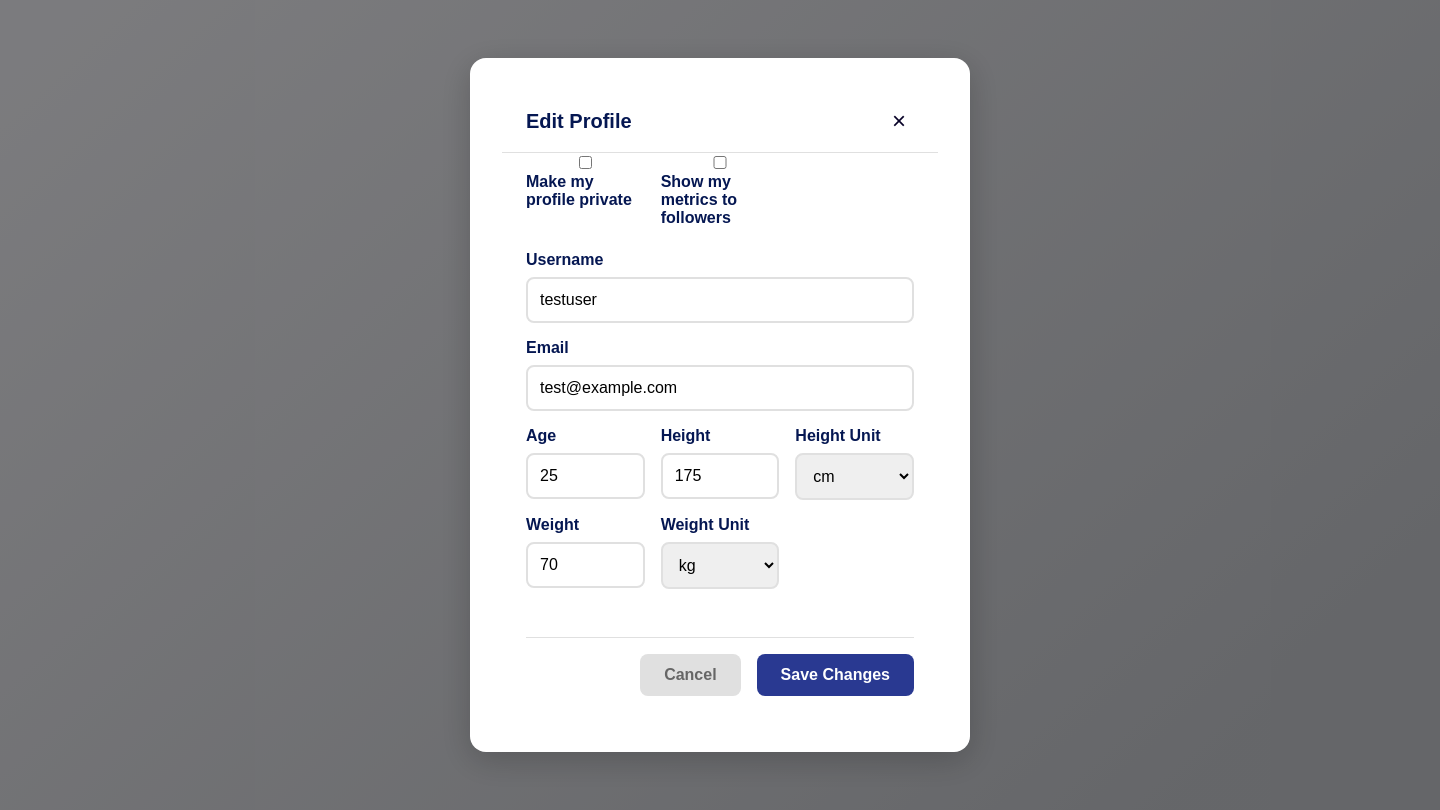
Test: EditProfile › displays error message on failed update
The width and height of the screenshot is (1440, 810).
(page scrolled)
Click the button "Save Changes".
click(835, 675)  # box [757,654,914,696]
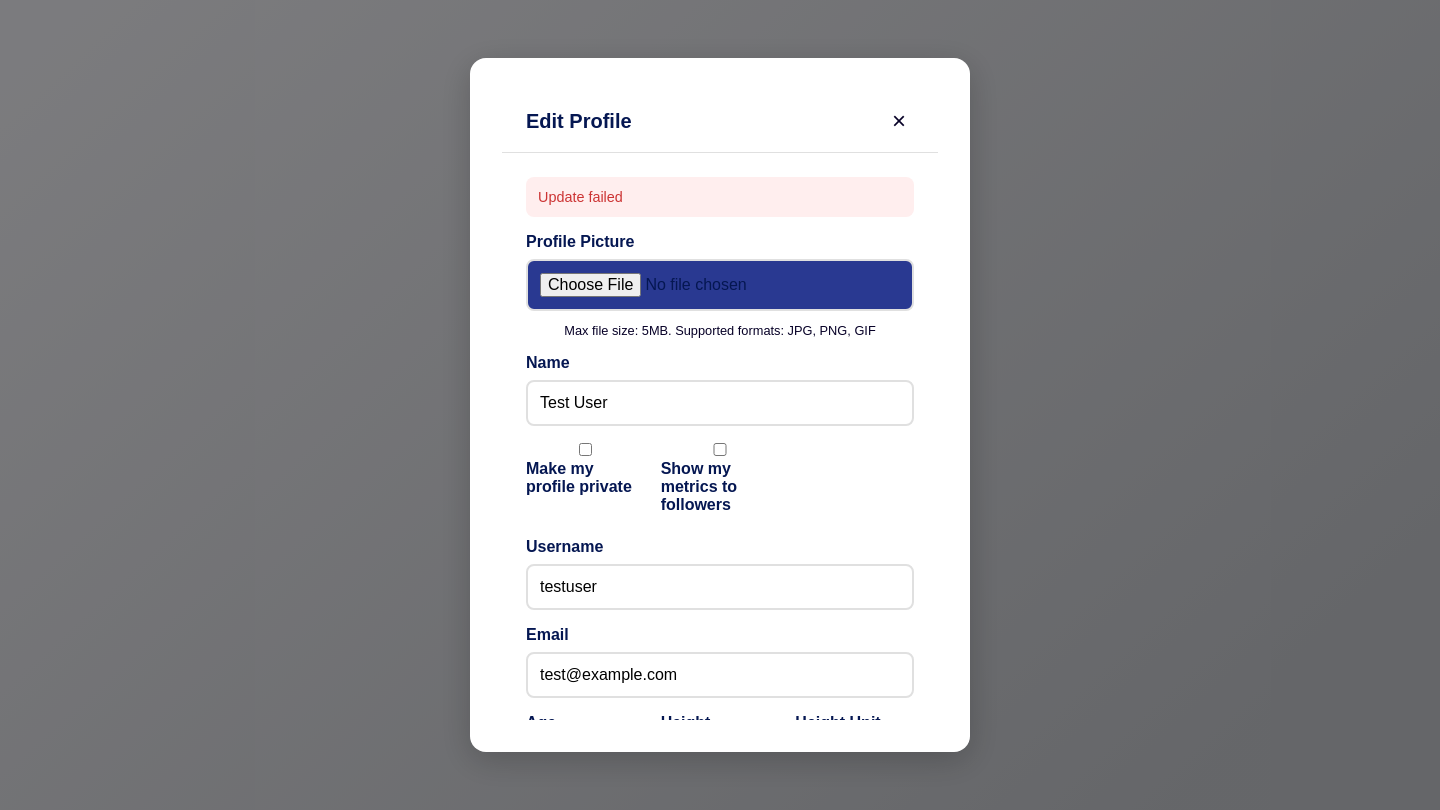
Now the text "Update failed" is shown, box [526,177,914,217]
